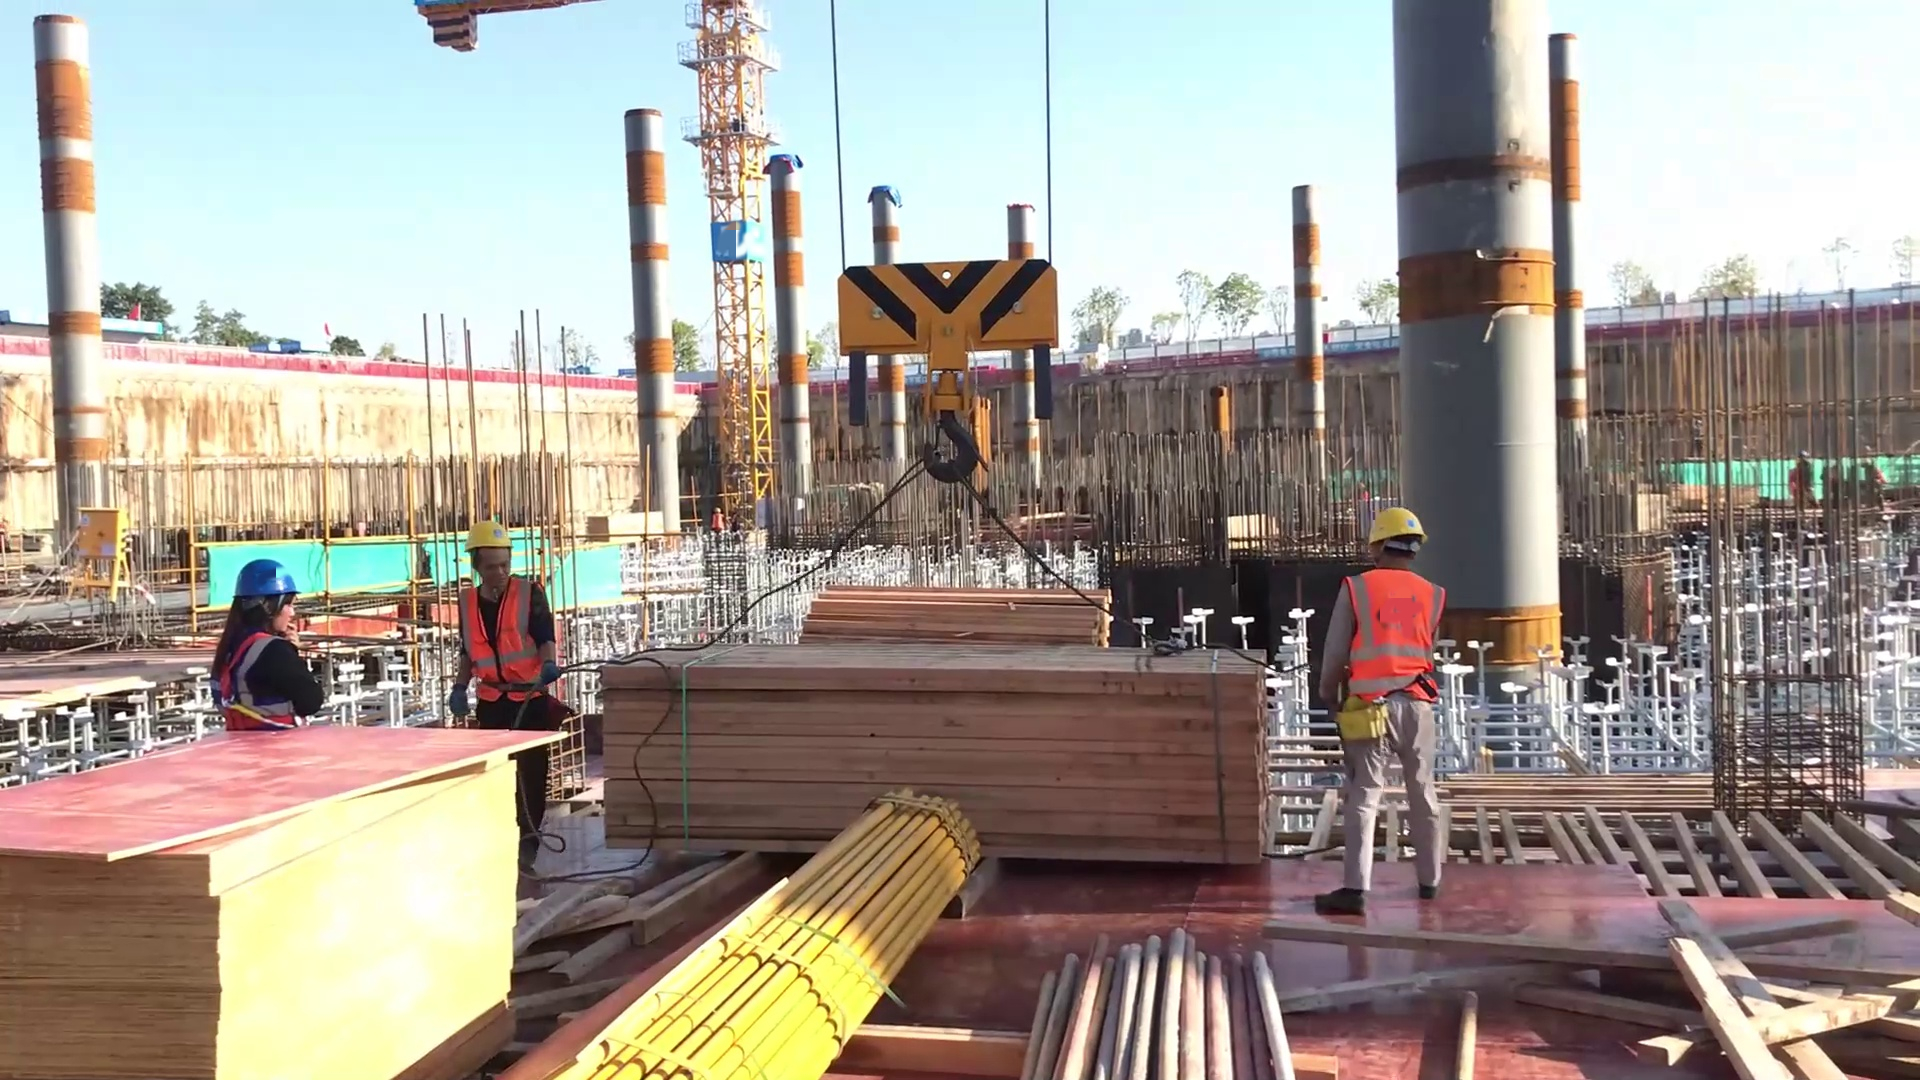board: (2, 712, 605, 1077)
ebox: (61, 497, 148, 614)
helmet: (1343, 489, 1442, 566), (448, 507, 524, 568), (227, 549, 306, 599)
hook: (817, 256, 1061, 485)
person: (1304, 491, 1475, 919), (424, 519, 589, 883), (211, 554, 348, 747)
rebar: (989, 904, 1285, 1080)
vest: (1333, 561, 1442, 708), (448, 573, 552, 703), (216, 631, 331, 747)
wood: (601, 641, 1270, 862)
